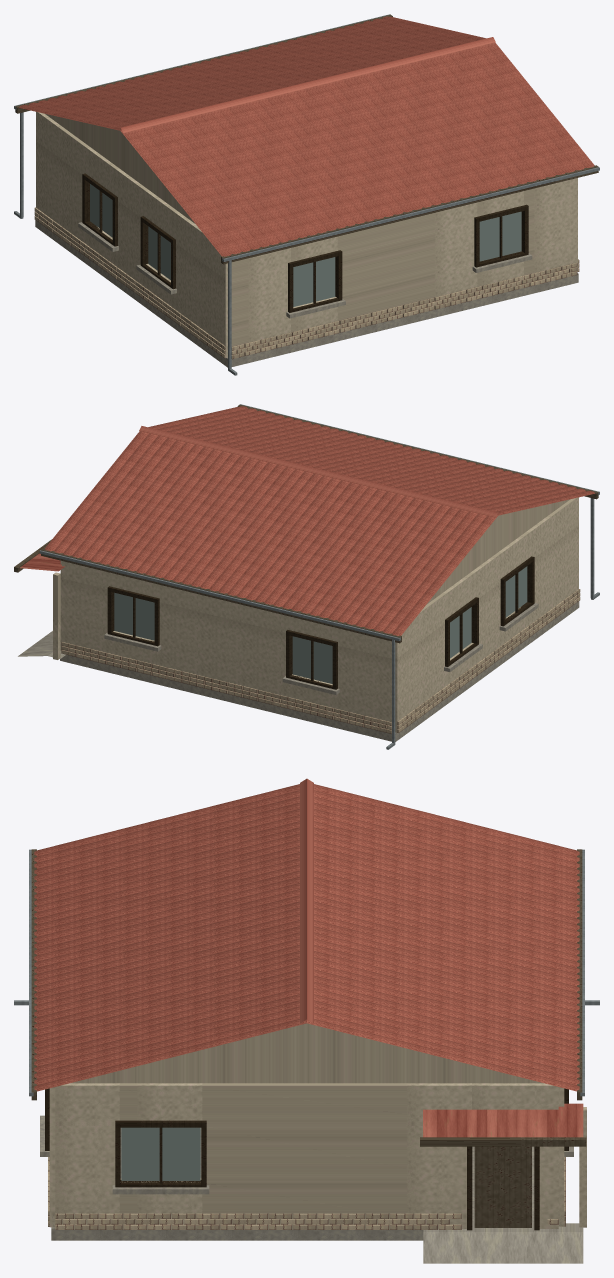
3 renders of one model, top to bottom at view 1: azimuth 30°, elevation 25°; view 2: azimuth 150°, elevation 25°; view 3: azimuth 270°, elevation 25°, orthographic. The views are drawn at different scales.
Visible parts, largest first — view 1: H01_TELHAS, H01_LATERAIS, H01_FUNDOS, H01_EMBASAMENTO_TIJOLO, H01_VIDROS_RECUADOS, H01_FUNDACAO, H01_CAIXILHOS, H01_OITOES, H01_BEIRAIS, H01_CUMEEIRA, H01_CALHA, H01_PEITORIS (+2 smaller); view 2: H01_TELHAS, H01_LATERAIS, H01_FUNDOS, H01_EMBASAMENTO_TIJOLO, H01_VIDROS_RECUADOS, H01_FUNDACAO, H01_CAIXILHOS, H01_OITOES, H01_BEIRAIS, H01_CUMEEIRA, H01_CALHA, H01_PEITORIS (+5 smaller); view 3: H01_TELHAS, H01_FACHADA, H01_OITOES, H01_EMBASAMENTO_TIJOLO, H01_RAMPA, H01_ALPENDRE_COBERTURA, H01_FUNDACAO, H01_PORTA_FOLHA, H01_VIDROS_RECUADOS, H01_CUMEEIRA, H01_BEIRAIS, H01_CAIXILHOS (+7 smaller).
Part boxes in pixels (left/top/right/bottom): H01_TELHAS: left=19, top=16, right=594, bottom=256; H01_LATERAIS: left=231, top=178, right=576, bottom=353; H01_FUNDOS: left=36, top=112, right=227, bottom=357; H01_EMBASAMENTO_TIJOLO: left=34, top=207, right=579, bottom=359; H01_VIDROS_RECUADOS: left=90, top=184, right=521, bottom=306; H01_FUNDACAO: left=35, top=220, right=578, bottom=367; H01_CAIXILHOS: left=82, top=173, right=528, bottom=312; H01_OITOES: left=45, top=114, right=195, bottom=223; H01_BEIRAIS: left=15, top=14, right=598, bottom=264; H01_CUMEEIRA: left=119, top=37, right=495, bottom=132; H01_CALHA: left=14, top=14, right=599, bottom=261; H01_PEITORIS: left=78, top=222, right=532, bottom=318; H01_TELHAS: left=44, top=406, right=595, bottom=635; H01_LATERAIS: left=62, top=561, right=391, bottom=730; H01_FUNDOS: left=395, top=497, right=578, bottom=732; H01_EMBASAMENTO_TIJOLO: left=61, top=589, right=580, bottom=733; H01_VIDROS_RECUADOS: left=114, top=566, right=527, bottom=683; H01_FUNDACAO: left=60, top=601, right=579, bottom=741; H01_CAIXILHOS: left=107, top=556, right=534, bottom=689; H01_OITOES: left=426, top=499, right=569, bottom=604; H01_BEIRAIS: left=41, top=404, right=598, bottom=643; H01_CUMEEIRA: left=139, top=426, right=499, bottom=517; H01_CALHA: left=39, top=404, right=599, bottom=640; H01_PEITORIS: left=104, top=603, right=538, bottom=694; H01_TELHAS: left=34, top=784, right=579, bottom=1091; H01_FACHADA: left=55, top=1083, right=558, bottom=1229; H01_OITOES: left=70, top=1023, right=543, bottom=1083; H01_EMBASAMENTO_TIJOLO: left=48, top=1157, right=565, bottom=1229; H01_RAMPA: left=423, top=1232, right=583, bottom=1263; H01_ALPENDRE_COBERTURA: left=423, top=1103, right=583, bottom=1137; H01_FUNDACAO: left=51, top=1128, right=534, bottom=1240; H01_PORTA_FOLHA: left=474, top=1146, right=531, bottom=1227; H01_VIDROS_RECUADOS: left=121, top=1127, right=200, bottom=1180; H01_CUMEEIRA: left=300, top=778, right=313, bottom=1023; H01_BEIRAIS: left=31, top=849, right=582, bottom=1100; H01_CAIXILHOS: left=45, top=1088, right=568, bottom=1187.
Size of the model in its own units: 11.18 by 4.58 by 10.64.
9 materials, 8 textured.
